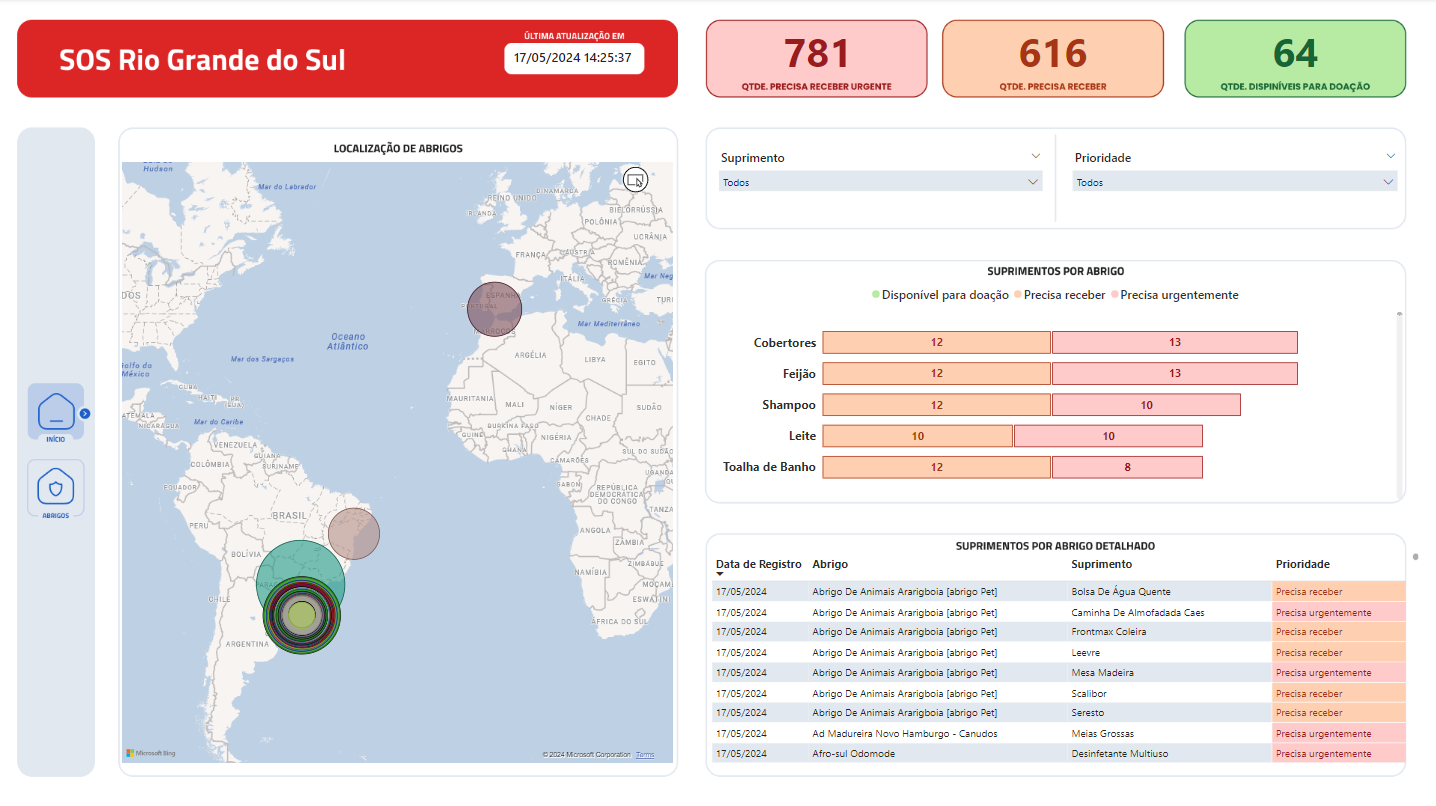

What the dashboard file says about the page in this screenshot:
{"tool":"powerbi","page":{"name":"SUPRIMENTOS","canvas":[1920,1080],"ordinal":0},"visuals":[{"type":"map","title":"Mapa dos abrigos","fields":{"Y":["Avg(DIMENSAO ABRIGO.Latitude)"],"X":["Avg(DIMENSAO ABRIGO.Longitude)"],"Series":["DIMENSAO ABRIGO.Nome do Abrigo"],"Category":["DIMENSAO ABRIGO.Endereço Completo"],"Size":["CountNonNull(FATO DOAÇÕES.SK Suprimento)"]},"box":[159.3,213.5,745.6,814.3],"z":0},{"type":"tableEx","title":"Suprimentos por abrigo","fields":{"Values":["FATO DOAÇÕES.Data Inclusão","DIMENSAO ABRIGO.Nome do Abrigo","DIMENSAO SUPRIMENTO.Nome Tratado","DIMENSAO PRIORIDADE.Descrição"]},"box":[944.6,736.5,955.5,289.5],"z":1000},{"type":"slicer","fields":{"Values":["DIMENSAO SUPRIMENTO.Nome Tratado"]},"box":[950.1,196.9,452.4,101.3],"z":2000},{"type":"slicer","fields":{"Values":["DIMENSAO PRIORIDADE.Descrição"]},"box":[1422.4,196.9,454.2,101.3],"z":3000},{"type":"barChart","title":"Quantidade de abrigos para cada tipo de suprimento","fields":{"Category":["DIMENSAO SUPRIMENTO.Nome Tratado"],"Y":["CountNonNull(FATO DOAÇÕES.SK Suprimento)"],"Series":["DIMENSAO PRIORIDADE.Descrição"]},"box":[944.6,374.6,933.8,300.4],"z":4000},{"type":"card","fields":{"Values":["Min(DATA DE ATUALIZAÇÃO DOS DADOS.Data de Atualização)"]},"box":[671.4,61.5,188.2,39.8],"z":5000},{"type":"card","fields":{"Values":["Medidas.Qtde Precisa Receber Urgentemente"]},"box":[944.6,27.1,295,85.1],"z":6000},{"type":"card","fields":{"Values":["Medidas.Qtde Precisa Receber"]},"box":[1259.5,27.1,295,85.1],"z":7000},{"type":"card","fields":{"Values":["Medidas.Qtde Dispinível para Doação"]},"box":[1583.5,27.1,295,85.1],"z":8000},{"type":"actionButton","box":[24.3,605.7,100,100],"z":9000}]}

Visuals, with their boxes on the page's 1920x1080 design canvas (x1, y1, x2, y2). These are canvas units, not pixel positions in the 1436x806 screenshot, which may show the page scaled, cropped or inside an application window:
"Mapa dos abrigos" map: crop(159, 214, 905, 1028)
"Suprimentos por abrigo" tableEx: crop(945, 736, 1900, 1026)
slicer - DIMENSAO SUPRIMENTO.Nome Tratado: crop(950, 197, 1402, 298)
slicer - DIMENSAO PRIORIDADE.Descrição: crop(1422, 197, 1877, 298)
"Quantidade de abrigos para cada tipo de suprimento" barChart: crop(945, 375, 1878, 675)
card - Min(DATA DE ATUALIZAÇÃO DOS DADOS.Data de Atualização): crop(671, 62, 860, 101)
card - Medidas.Qtde Precisa Receber Urgentemente: crop(945, 27, 1240, 112)
card - Medidas.Qtde Precisa Receber: crop(1260, 27, 1554, 112)
card - Medidas.Qtde Dispinível para Doação: crop(1584, 27, 1878, 112)
actionButton: crop(24, 606, 124, 706)
